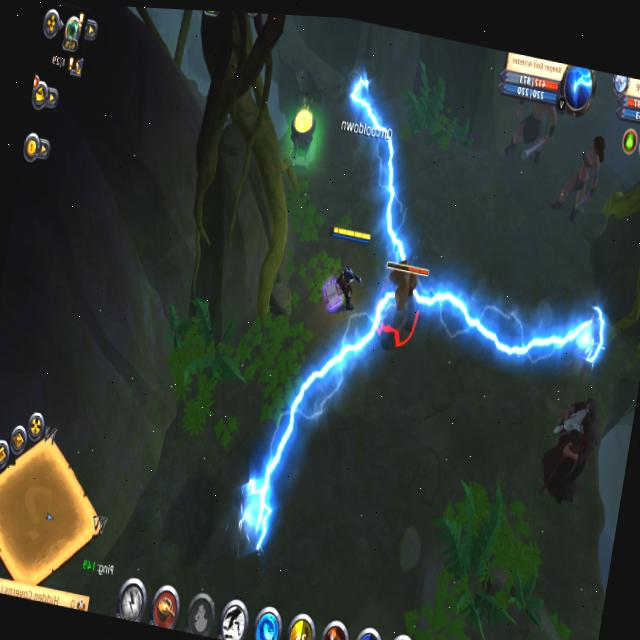fiber: (281, 97, 324, 174)
ore: (534, 385, 608, 517), (541, 121, 612, 237), (492, 76, 568, 176), (369, 252, 432, 356)
red: (316, 223, 376, 329)
silver: (239, 293, 395, 549), (405, 275, 614, 376), (348, 78, 404, 263)
